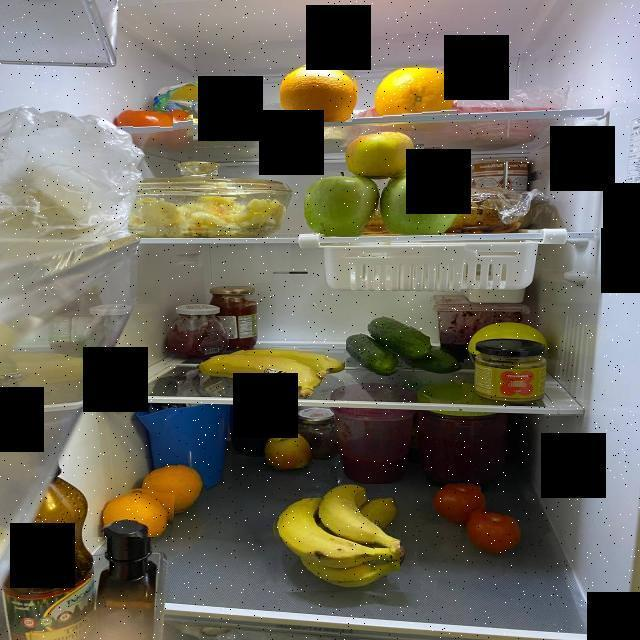apple: (304, 172, 392, 235), (382, 174, 468, 233), (348, 131, 424, 178), (256, 434, 312, 468)
banana: (266, 484, 401, 592), (189, 357, 327, 386), (230, 346, 344, 368)
cucumber: (368, 313, 431, 356), (346, 331, 408, 373), (406, 346, 466, 368)
orange: (373, 68, 458, 120), (93, 486, 175, 537), (282, 64, 354, 122), (144, 463, 207, 514)
tomato: (464, 507, 524, 552), (431, 483, 481, 520), (152, 110, 194, 151), (118, 102, 174, 131)
